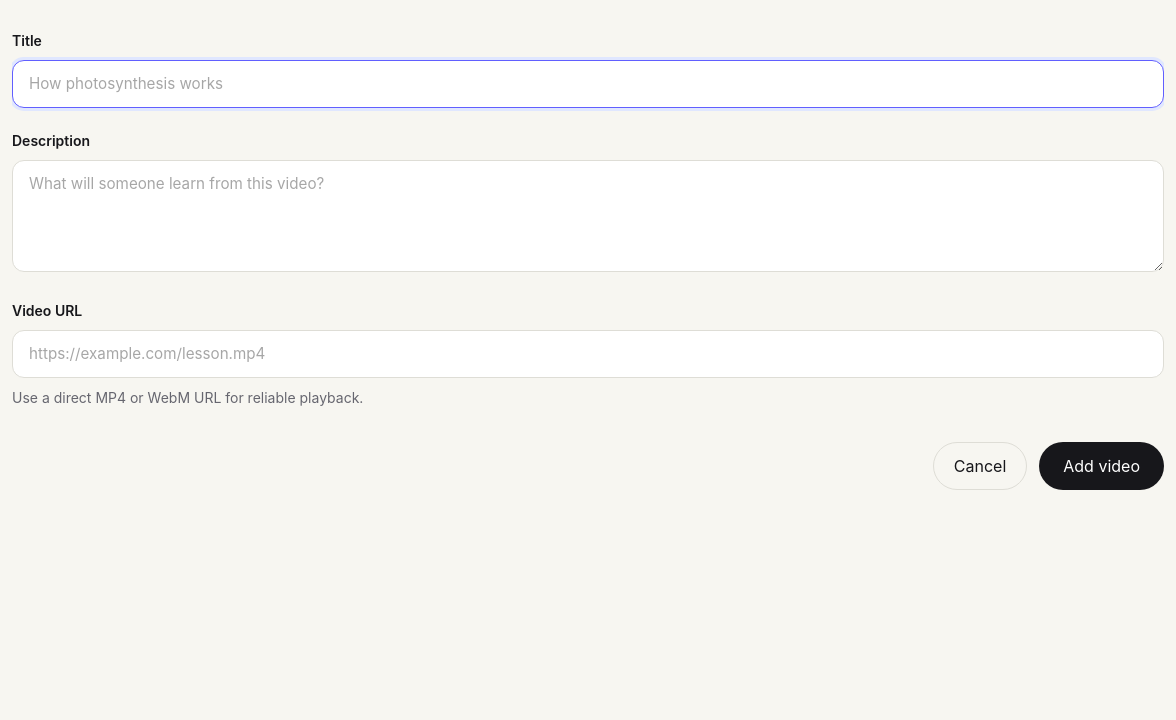
Test: VideoForm › shows field errors for an empty submission
The width and height of the screenshot is (1176, 720).
What coordinates should you click on to do the following:
click the button "Add video"
I would click on:
 (1102, 466)
Its box is [1039,442,1164,490].
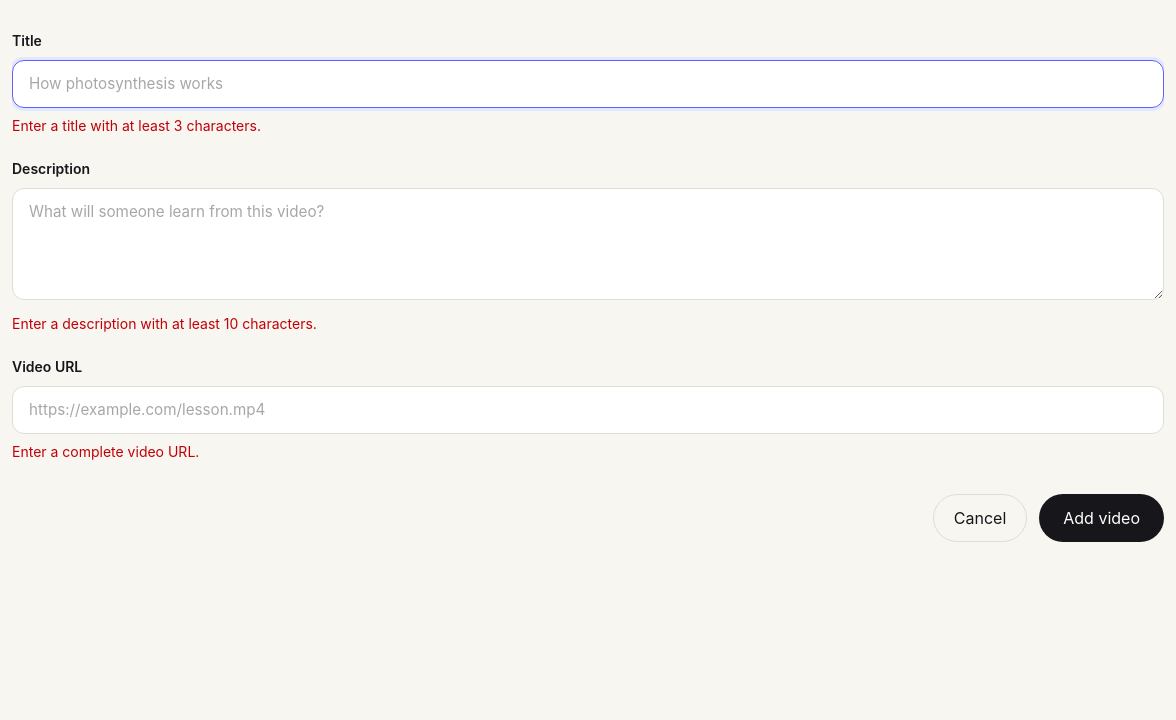
Expected: the text "Enter a title with at least 3 characters." is shown, [12,117,261,134]
Expected: the text "Enter a description with at least 10 characters." is shown, [12,315,317,332]
Expected: the text "Enter a complete video URL." is shown, [12,443,199,460]
